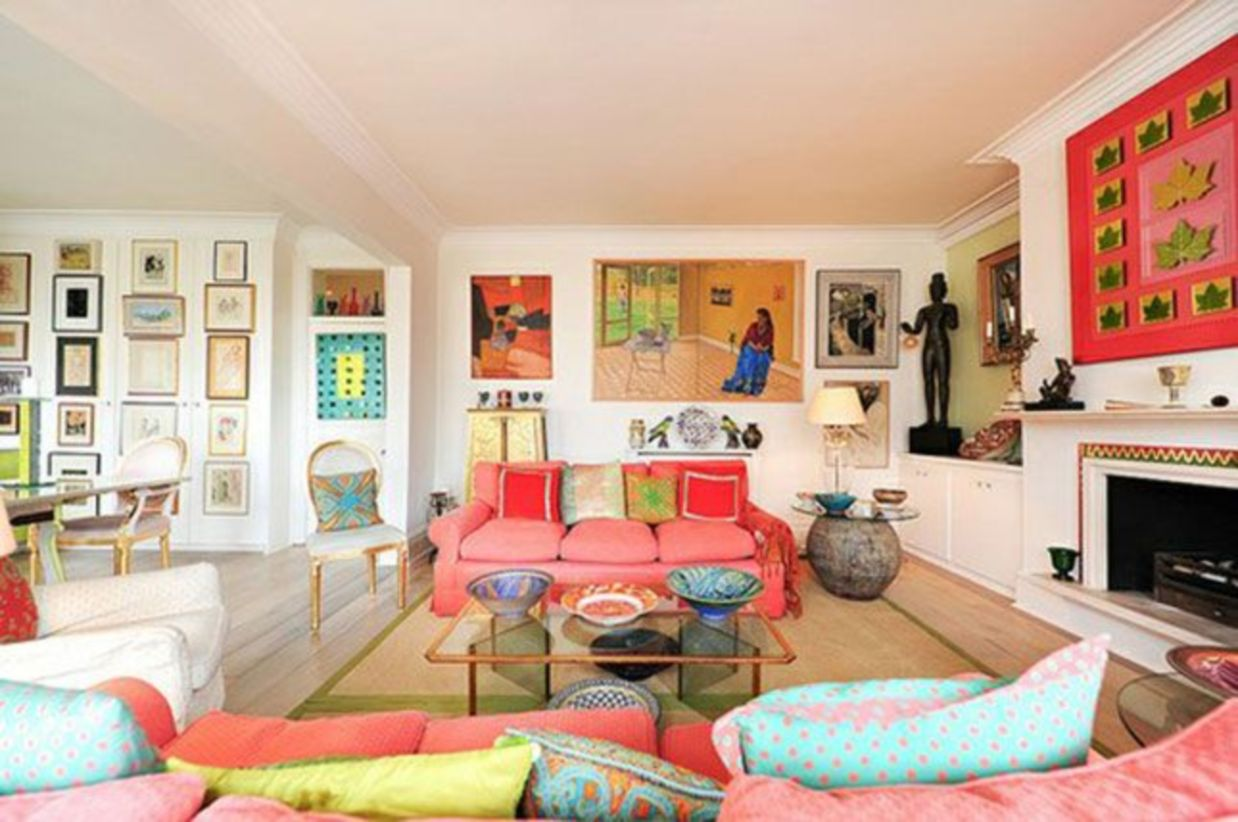biru: (816, 494, 854, 512)
hitam: (906, 272, 959, 453), (1029, 359, 1085, 412), (1048, 543, 1077, 581)
kuning: (242, 743, 527, 806)
merah: (495, 467, 558, 524), (681, 469, 741, 522)
pink: (432, 461, 780, 574)
putih: (1, 562, 223, 686), (806, 387, 870, 428)
